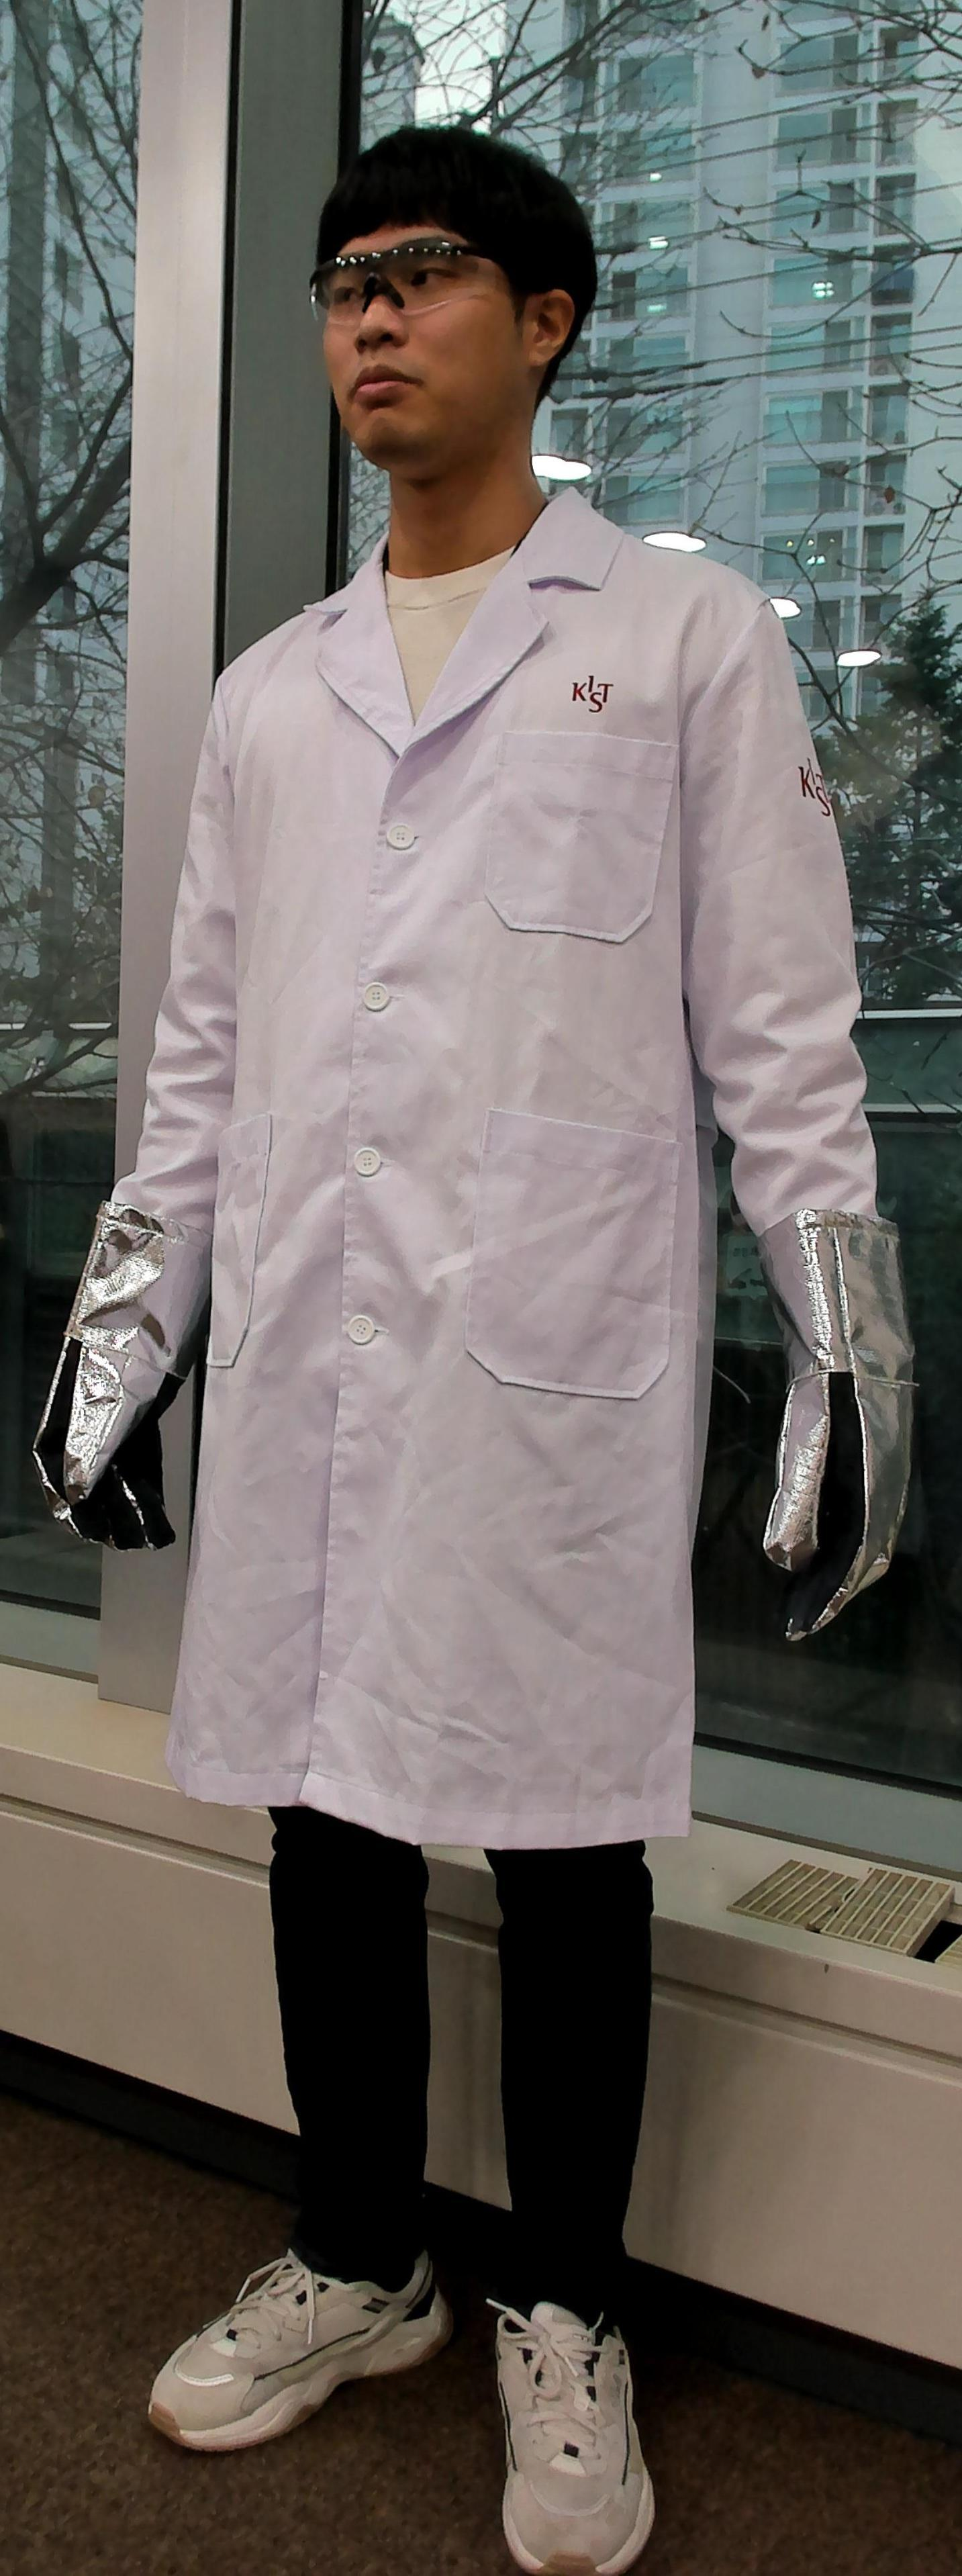lab_coat: (158, 565, 719, 1779)
